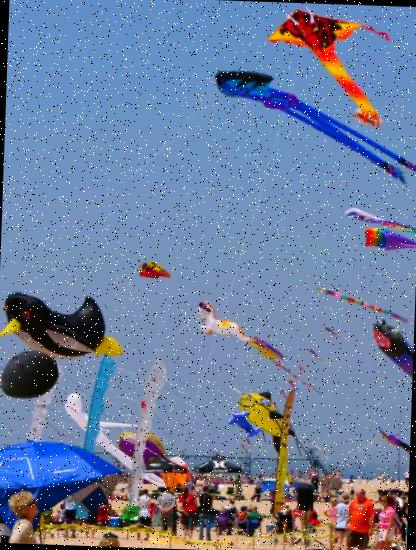Plum: (0, 344, 59, 406)
